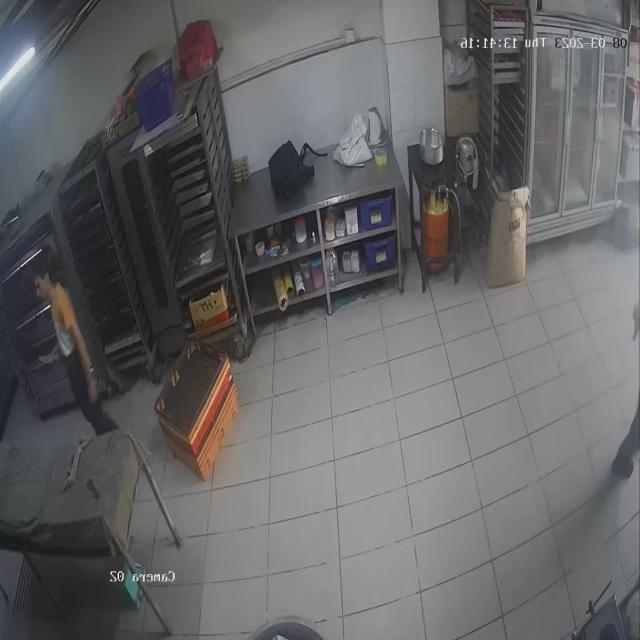Knife: (30, 345, 62, 373)
